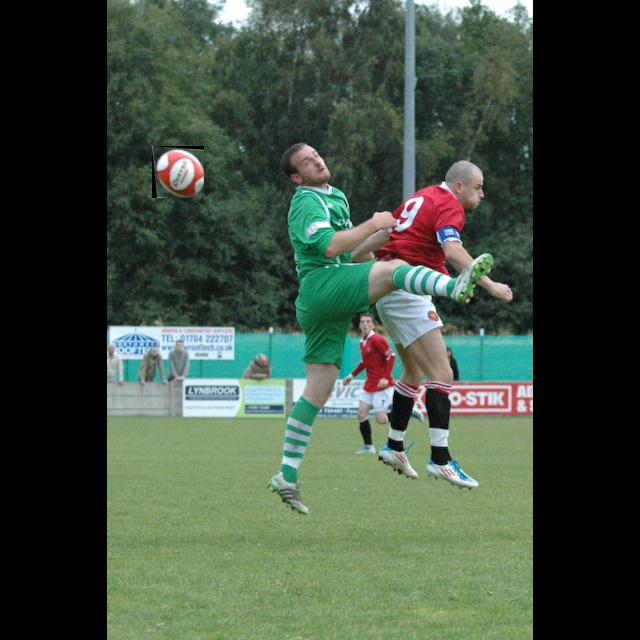Football: (152, 146, 204, 198)
